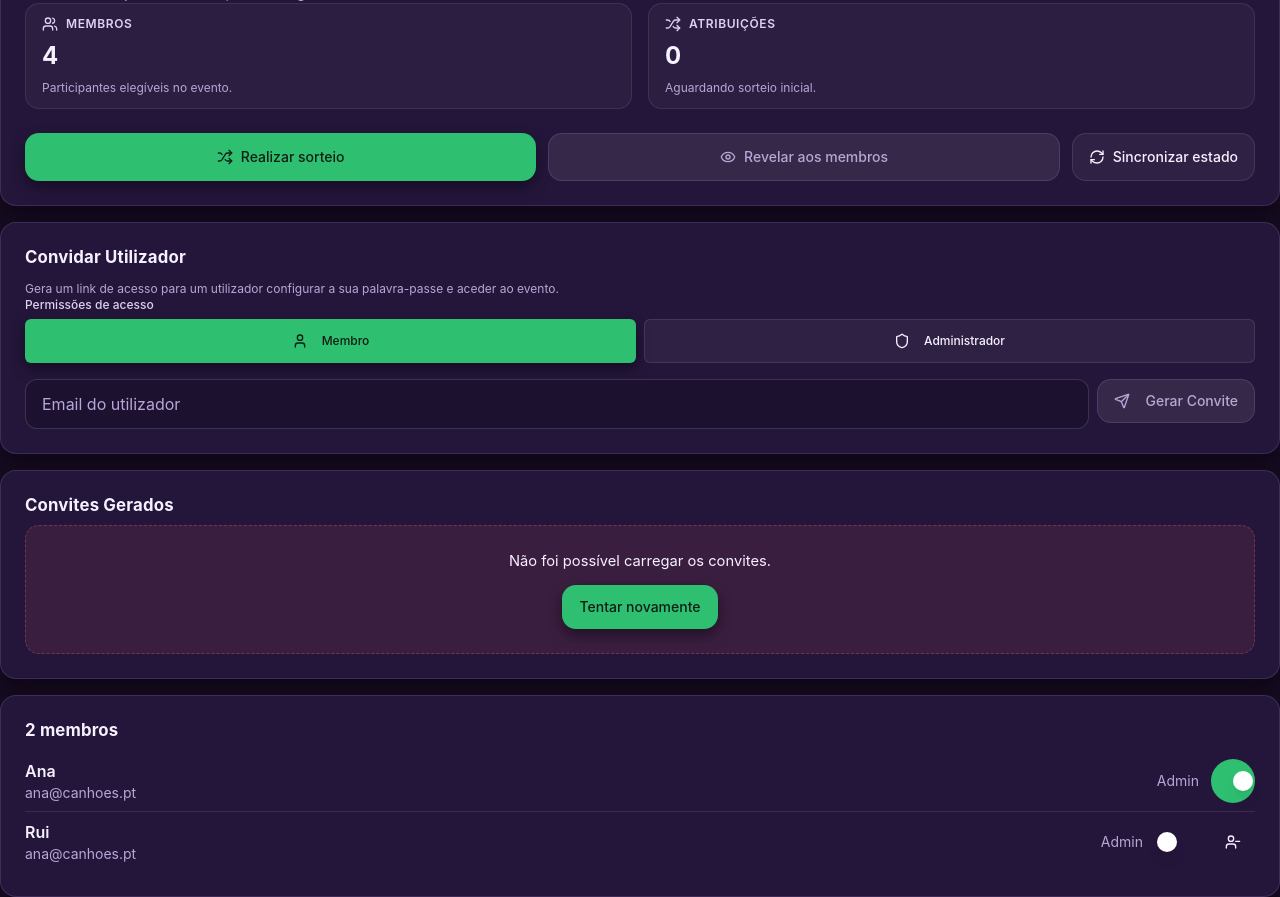
CanhoesAdminModule — members › removes a member from the event only after confirming, and never offers it for admins
(page scrolled)
Expected: the text "Rui" is shown, [25,822,49,842]
Click the button named "Remover Rui do evento". click: (1233,842)
box: [1211,820,1255,864]
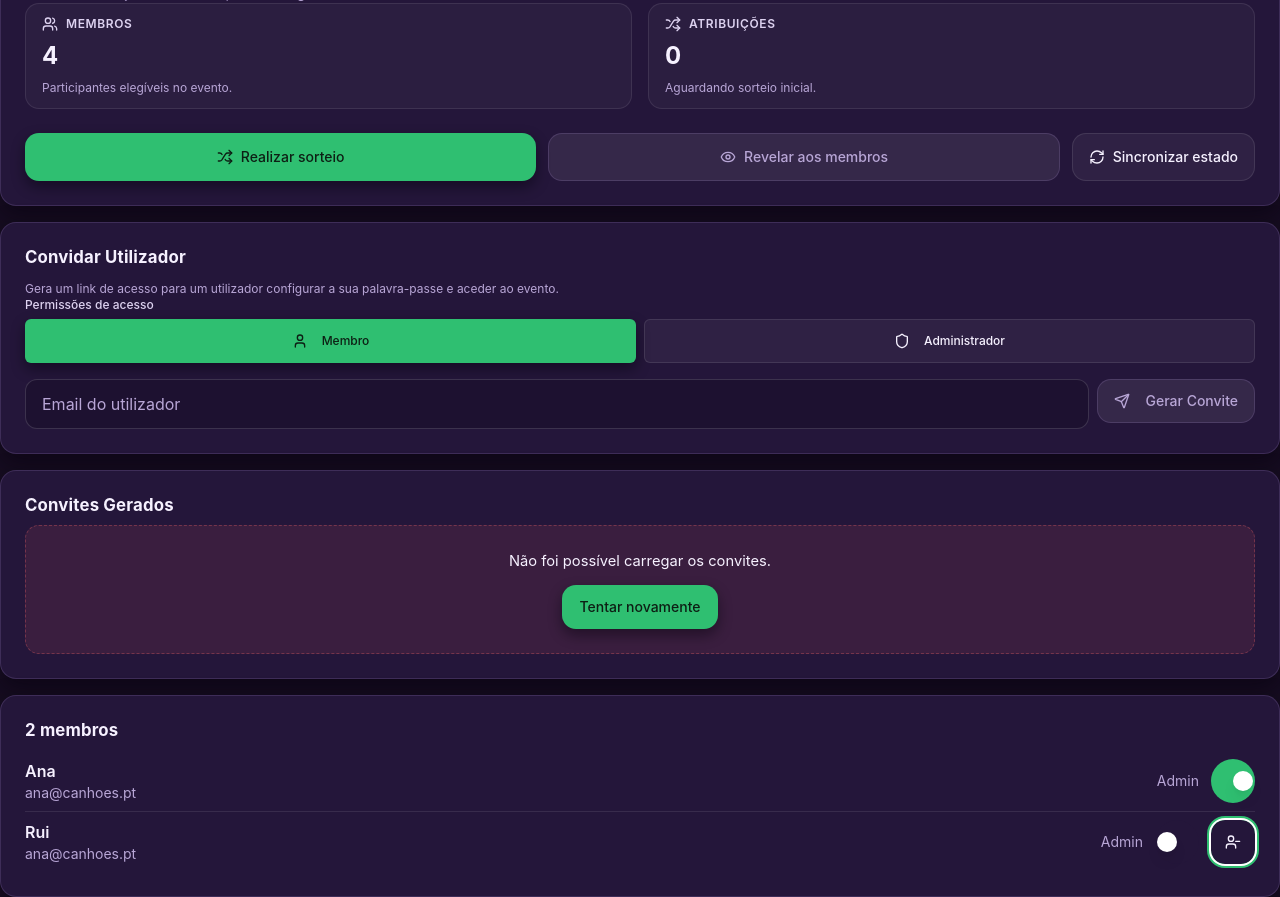
Click the button named "Remover Rui do evento". click: (1233,842)
box: [1211,820,1255,864]
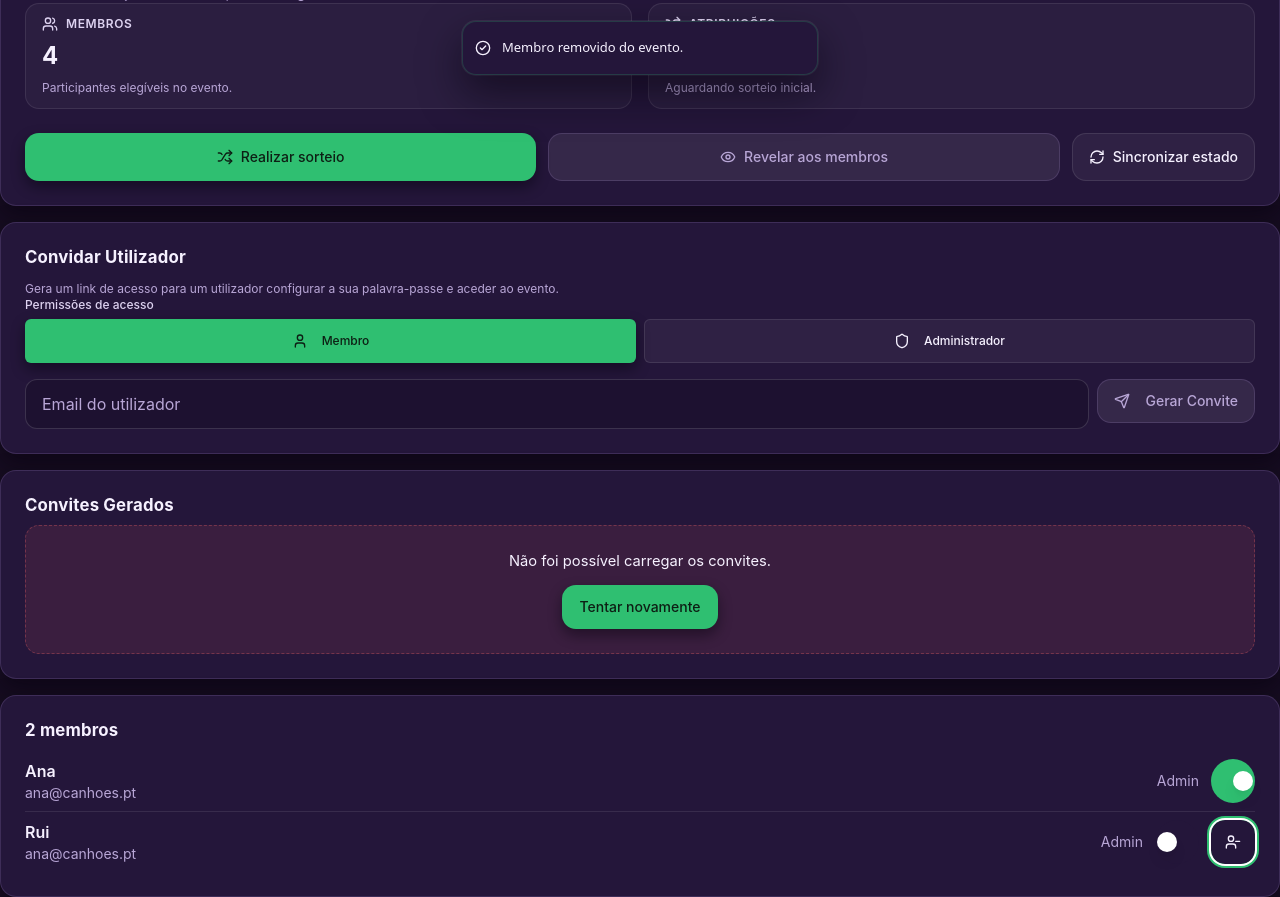
Expected: the text "Membro removido do evento." is shown, [502,38,683,58]
